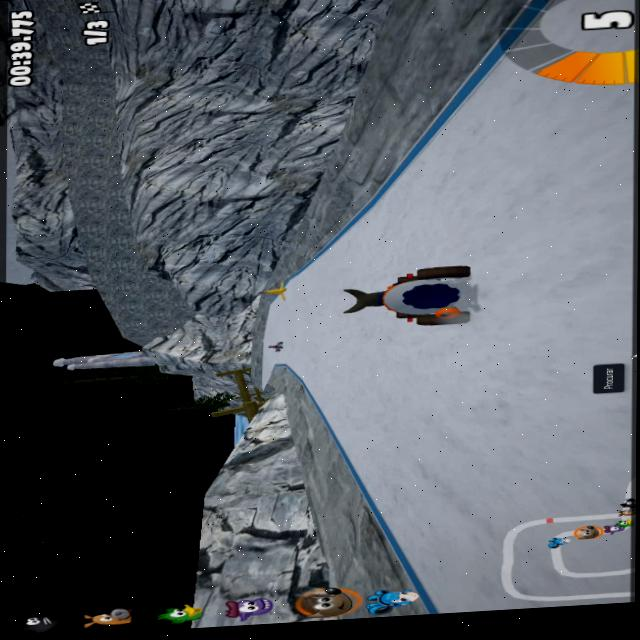enemy_kart: (266, 339, 286, 353)
obstacle: (257, 279, 296, 304)
player_kart: (346, 264, 490, 329)
track: (436, 315, 637, 612), (491, 10, 632, 323), (361, 321, 446, 496), (383, 169, 515, 271), (424, 93, 497, 174), (293, 271, 335, 363), (315, 331, 363, 411), (391, 487, 441, 541), (331, 218, 380, 271), (266, 303, 293, 340), (330, 406, 359, 439), (251, 353, 273, 380), (276, 355, 288, 363)
